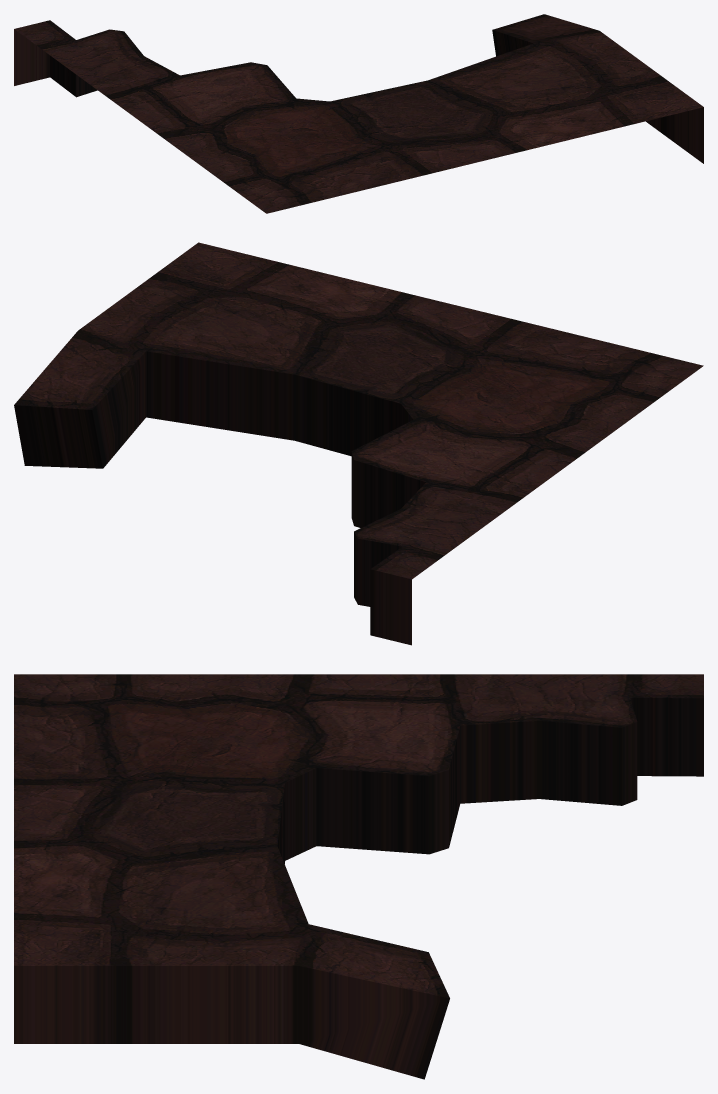
Rendered from lava_floor_brokendiagonal_03.fbx.
3 renders of one model, top to bottom at view 1: azimuth 30°, elevation 25°; view 2: azimuth 150°, elevation 25°; view 3: azimuth 270°, elevation 25°, orthographic. The views are drawn at different scales.
Parts seen in each view (by area): view 1: lava_tileset/lava_floor01_shadow; view 2: lava_tileset/lava_floor01_shadow; view 3: lava_tileset/lava_floor01_shadow.
Boxes of the visible parts, bbox=[...] form: lava_tileset/lava_floor01_shadow: bbox=[14, 14, 703, 213]; lava_tileset/lava_floor01_shadow: bbox=[14, 242, 703, 645]; lava_tileset/lava_floor01_shadow: bbox=[14, 674, 703, 1079].
Size of the model in its own units: 4 by 0.7279 by 4.
